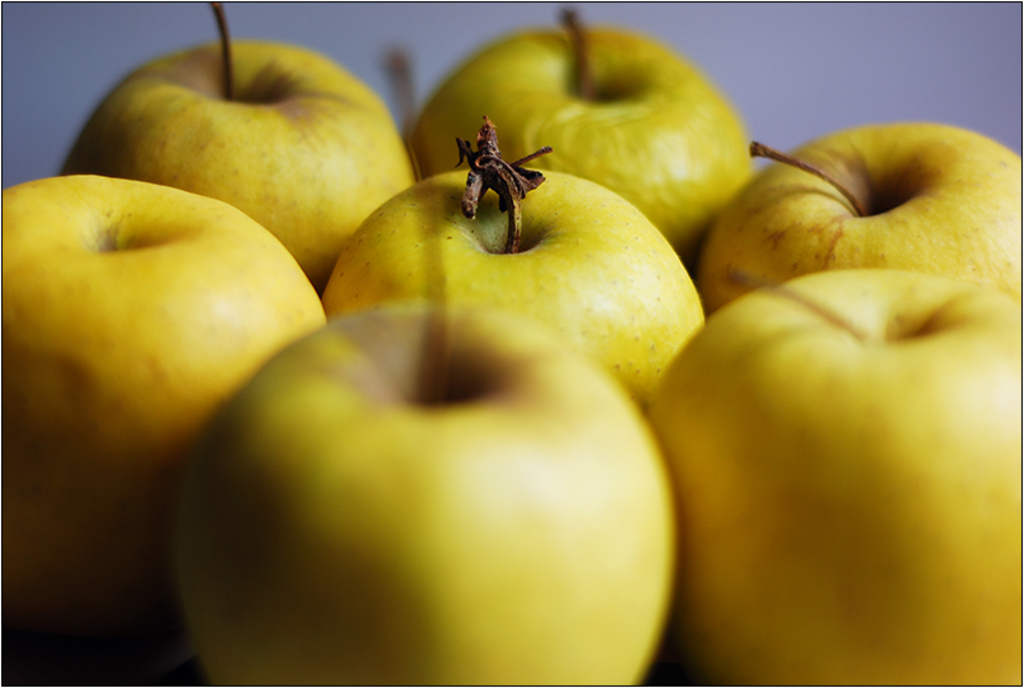Apple: (0, 0, 1022, 686), (648, 266, 1022, 686), (71, 24, 422, 277)
